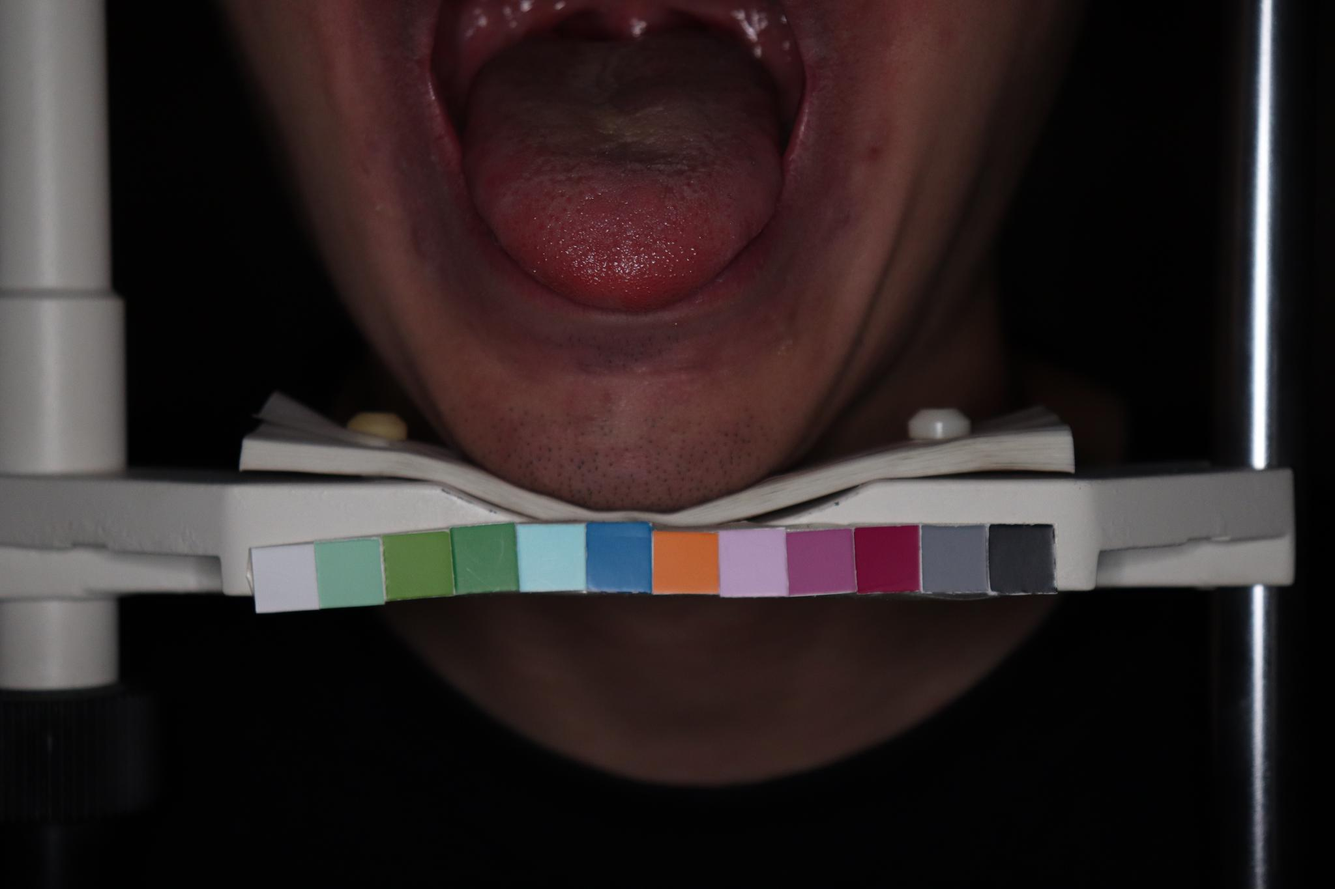hongdianshe: (669, 238, 677, 247), (529, 214, 537, 221)
hongshe: (463, 30, 784, 309)
huangtaishe: (464, 30, 784, 309)
